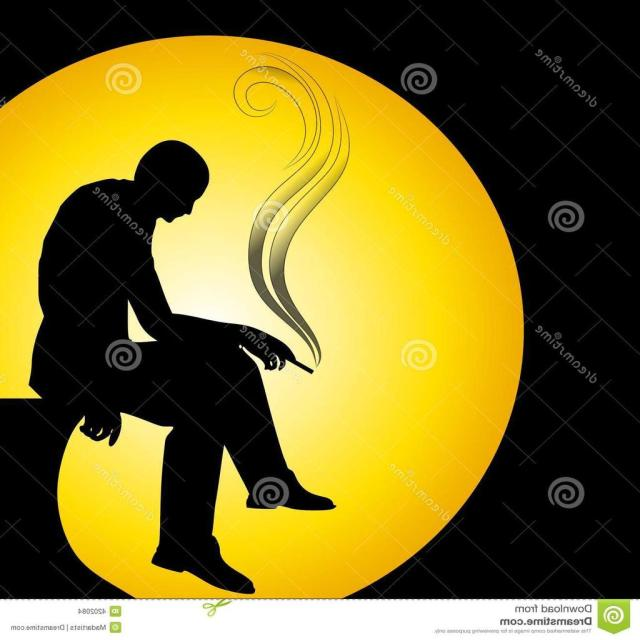smoking: (30, 132, 355, 396)
